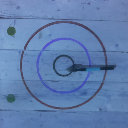Axe Tip: (67, 68, 80, 70)
